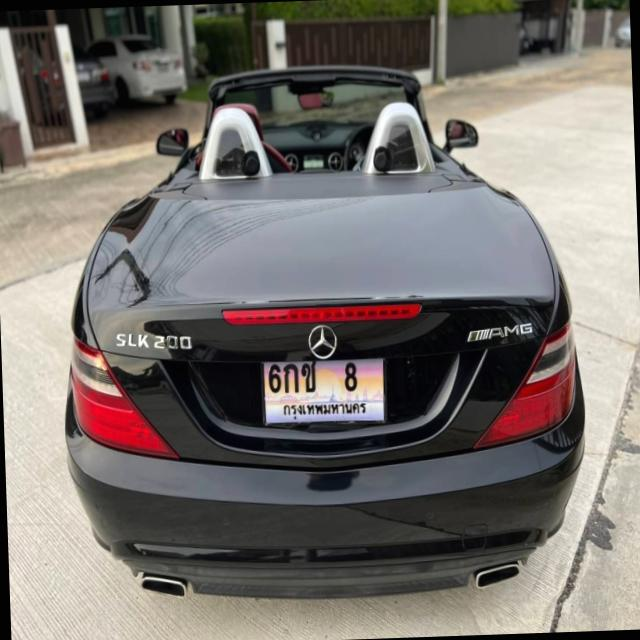license_plate: (254, 348, 392, 436)
